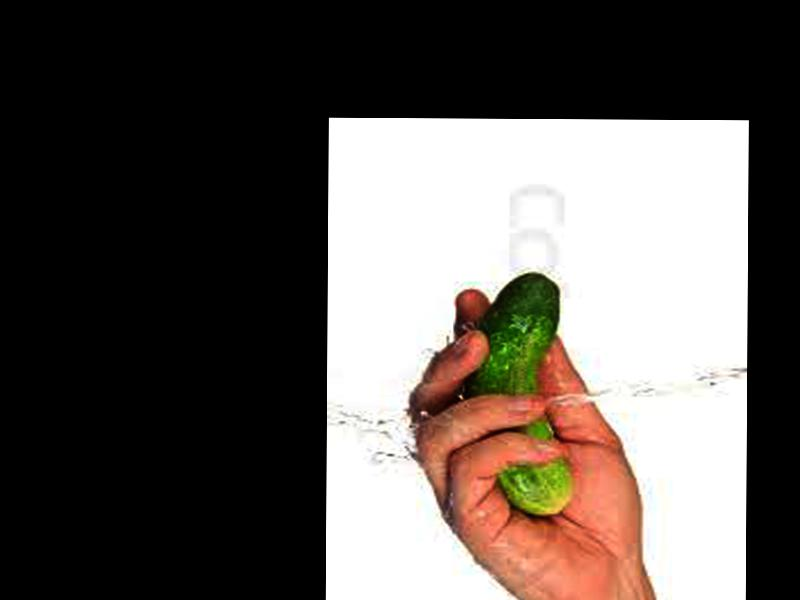Cucumber: (470, 271, 570, 514)
